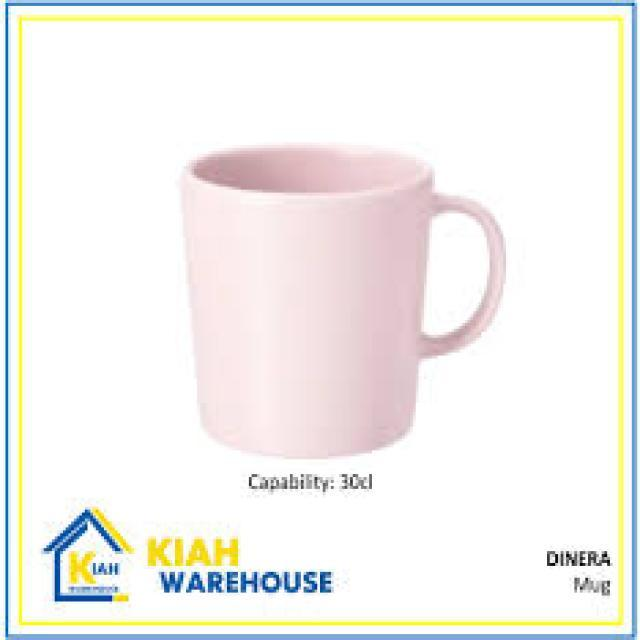taza: (178, 142, 506, 460)
